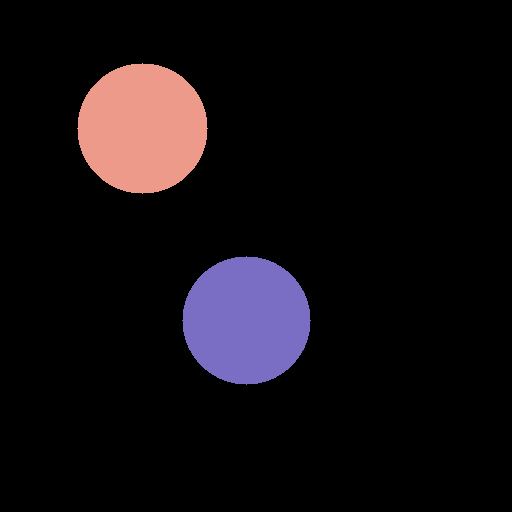circle: (77, 63, 207, 193), (182, 256, 310, 384)
